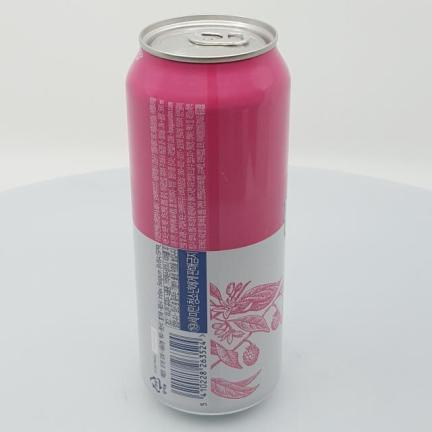can: (127, 15, 290, 414)
